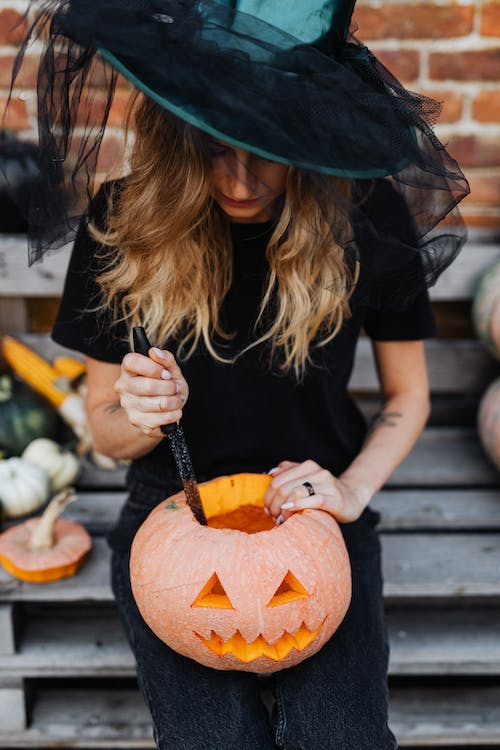knife: (130, 322, 209, 526)
